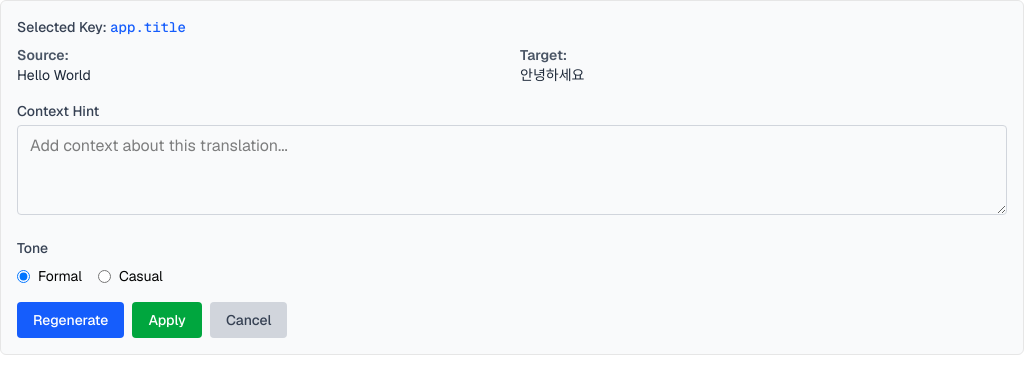
TranslationControl › resets context and tone when cancel button clicked
# Fill context and select casual
Type "Some context" into the text box with placeholder "Add context about this translation..." at (512, 170), box [17, 125, 1007, 215]
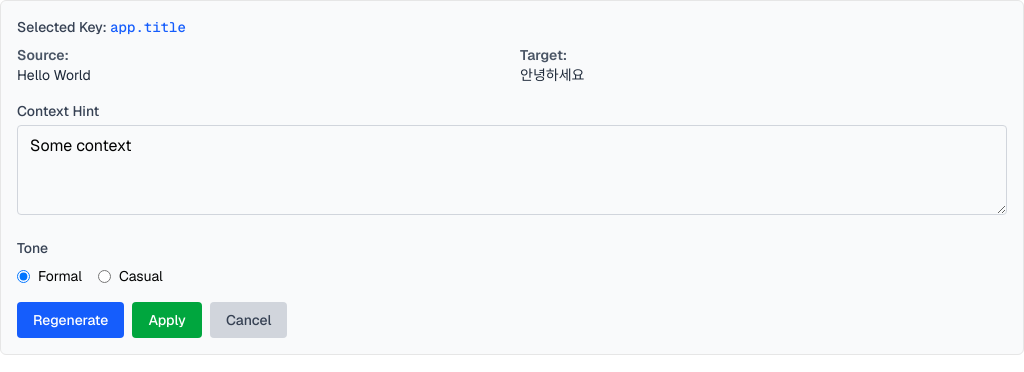
Click the radio button labelled "Casual" at (104, 276), box [98, 270, 111, 282]
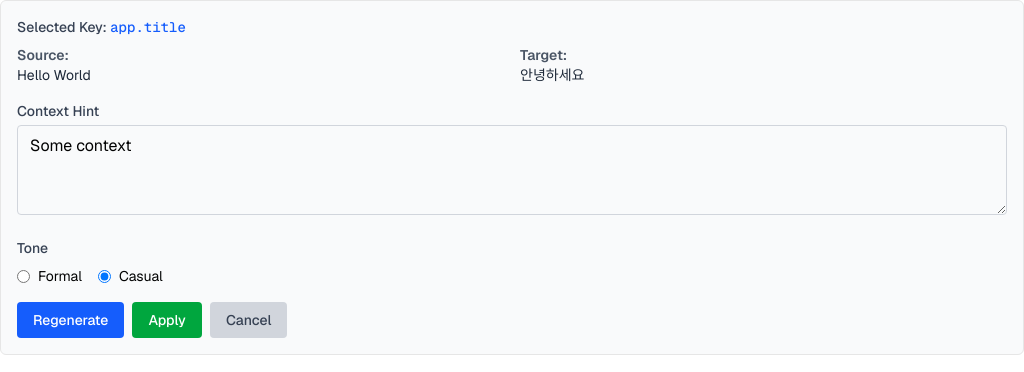
# Click cancel
Click the button "Cancel" at (249, 320), box [210, 302, 288, 338]
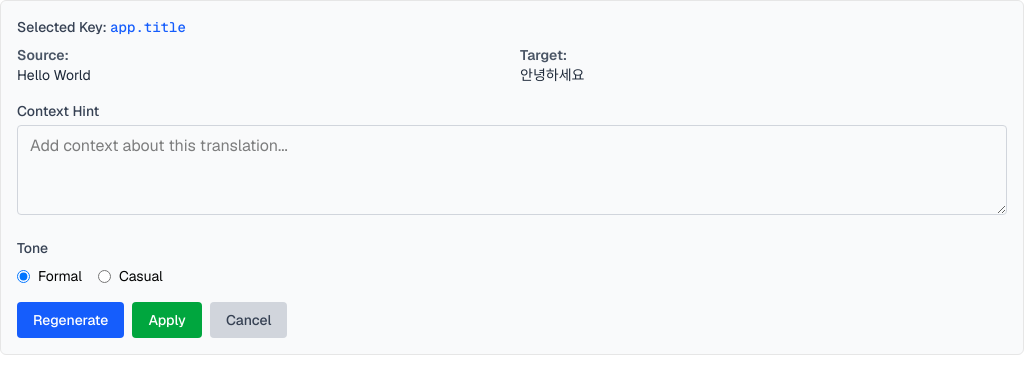
Check: the text box with placeholder "Add context about this translation..." is empty, box [17, 125, 1007, 215]
Check: the radio button labelled "Formal" is checked, box [17, 270, 30, 282]
